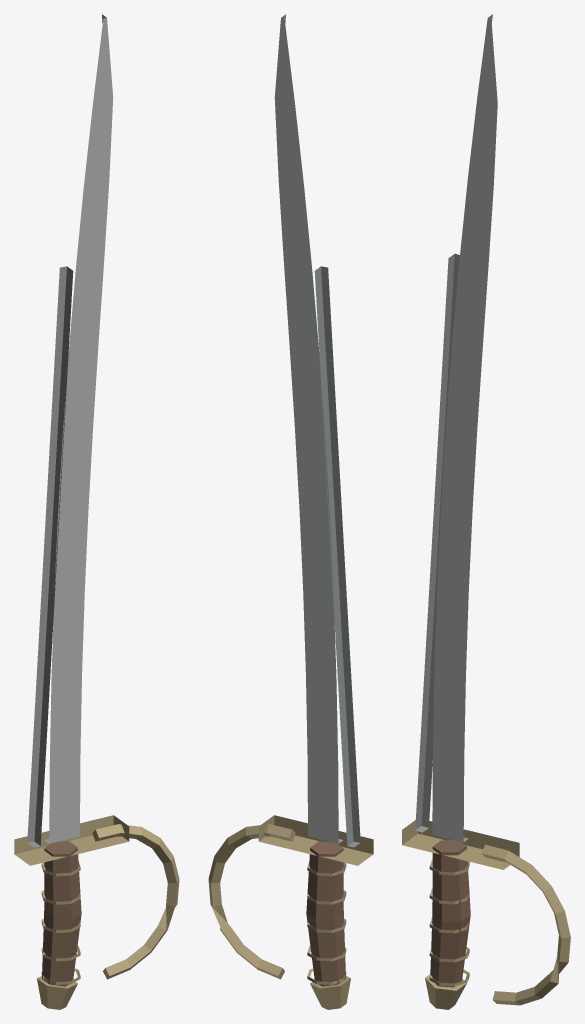
Rendered from sword.glb.
3 renders of one model, left to right at view 1: azimuth 30°, elevation 25°; view 2: azimuth 150°, elevation 25°; view 3: azimuth 330°, elevation 25°, orthographic. The views are drawn at different scales.
Parts seen in each view (by area): view 1: metal, wood; view 2: metal, wood; view 3: metal, wood.
Part boxes in pixels (x1=…): metal: x1=14, y1=14, x2=179, y2=1009; wood: x1=42, y1=841, x2=81, y2=986; metal: x1=208, y1=14, x2=373, y2=1009; wood: x1=306, y1=841, x2=345, y2=986; metal: x1=402, y1=14, x2=570, y2=1009; wood: x1=430, y1=840, x2=470, y2=987.
Bounding box in the file's own units: 0.1742 × 1.04 × 0.04.
